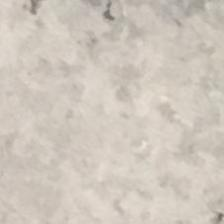Non_Crack: (29, 44, 217, 190)
